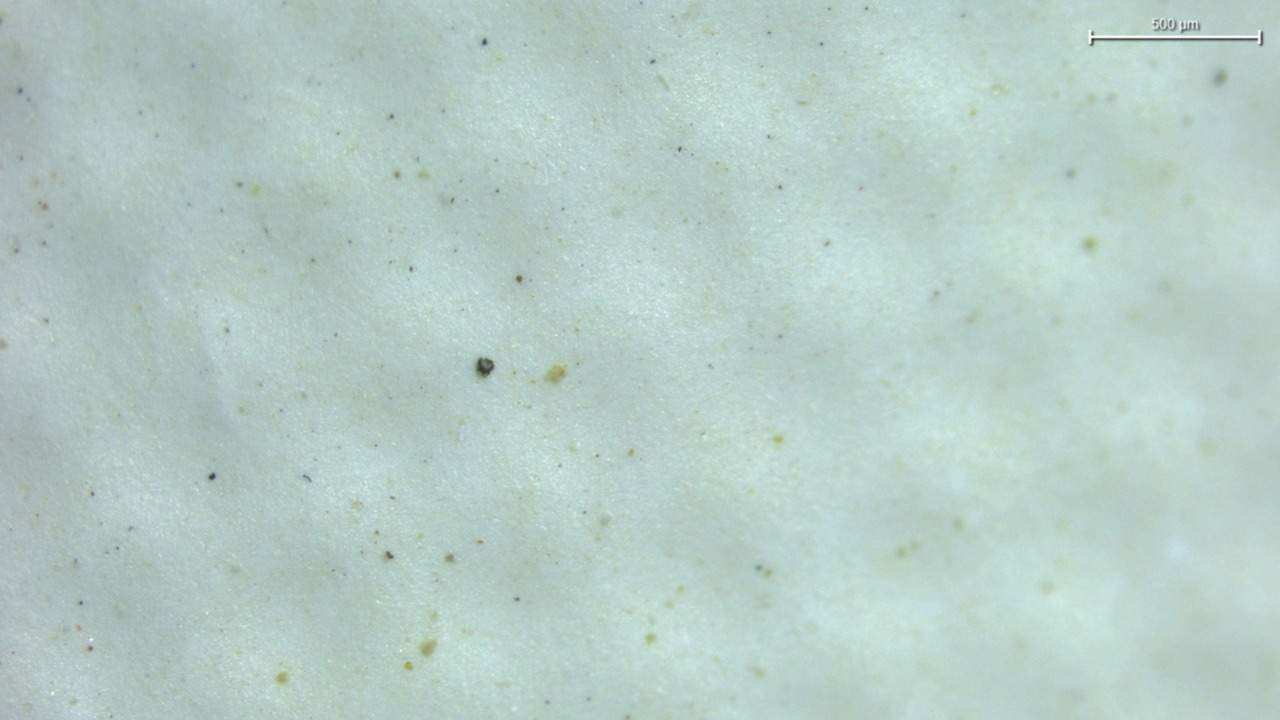microplastic_fragment: (476, 357, 494, 376)
